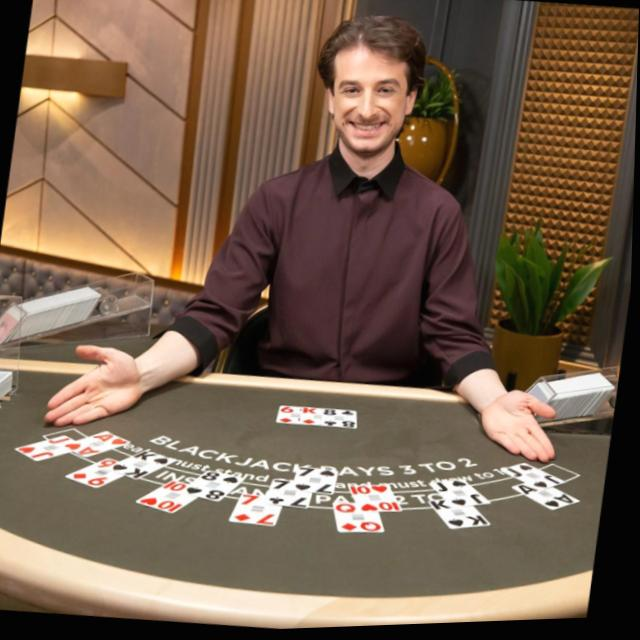Card-10: (138, 481, 200, 514), (352, 487, 404, 514)
Card-6: (278, 407, 305, 426)
Card-7: (232, 494, 284, 528), (266, 480, 314, 511), (293, 467, 340, 497)
Card-8: (185, 471, 246, 503), (324, 410, 359, 431)
Card-9: (68, 458, 125, 488)
Card-A: (64, 431, 133, 458), (514, 487, 583, 514)
Card-J: (505, 466, 568, 494), (432, 483, 493, 511), (17, 435, 77, 461)
Card-K: (108, 450, 178, 480), (431, 503, 493, 532), (303, 408, 326, 428)
Card-Q: (336, 505, 386, 534)
